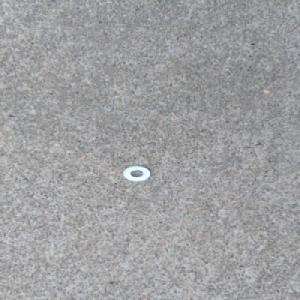Washer: (120, 164, 152, 182)
